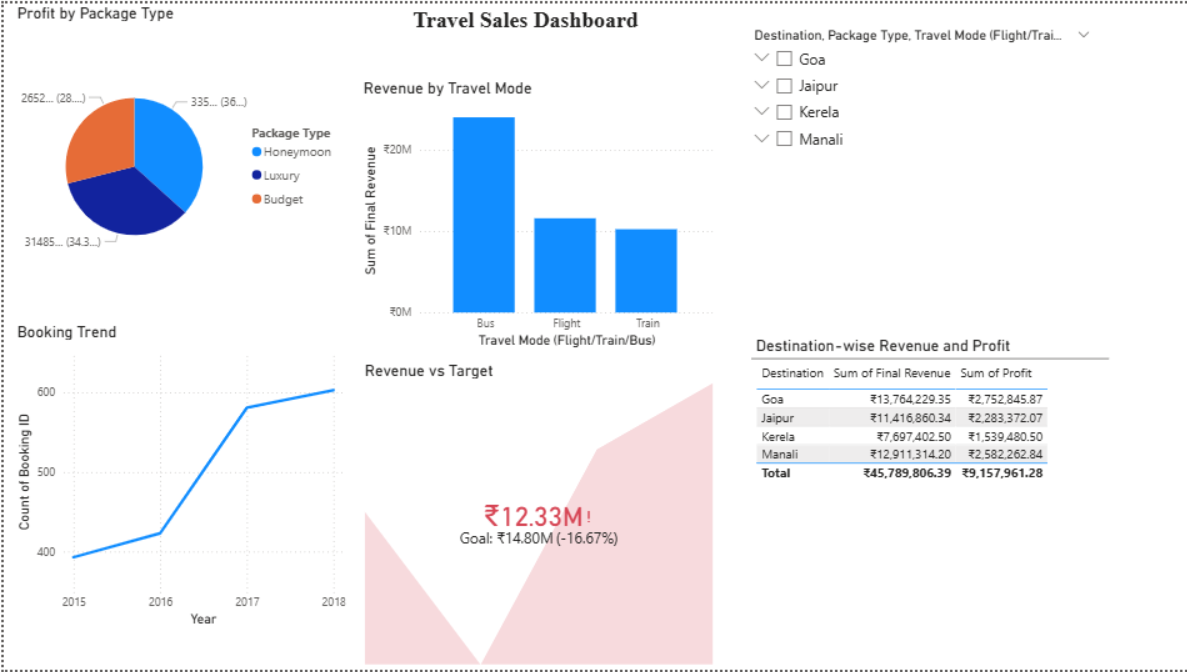

What the dashboard file says about the page in this screenshot:
{"tool":"powerbi","page":{"name":"Page 1","canvas":[1280,720],"ordinal":0},"visuals":[{"type":"pieChart","title":"Profit by Package Type","fields":{"Category":["Raw Data.Package Type"],"Y":["Sum(Raw Data.Profit)"]},"box":[9.6,0,365.3,333.7],"z":0},{"type":"lineChart","title":"Booking Trend","fields":{"Category":["Raw Data.Booking Date.Variation.Date Hierarchy.Year","Raw Data.Booking Date.Variation.Date Hierarchy.Quarter","Raw Data.Booking Date.Variation.Date Hierarchy.Month","Raw Data.Booking Date.Variation.Date Hierarchy.Day"],"Y":["CountNonNull(Raw Data.Booking ID)"]},"box":[10,344,365,334],"z":1000},{"type":"columnChart","title":"Revenue by Travel Mode","fields":{"Category":["Raw Data.Travel Mode (Flight/Train/Bus)"],"Y":["Sum(Raw Data.Final Revenue)"]},"box":[384.2,80.9,387.8,296],"z":2000},{"type":"slicer","fields":{"Values":["Raw Data.Destination","Raw Data.Package Type","Raw Data.Travel Mode (Flight/Train/Bus)"]},"box":[798.5,21.7,387.8,333.4],"z":3000},{"type":"tableEx","title":"Destination-wise Revenue and Profit","fields":{"Values":["Raw Data.Destination","Sum(Raw Data.Final Revenue)","Sum(Raw Data.Profit)"]},"box":[807.6,359.8,387.3,335.1],"z":4000},{"type":"kpi","title":"Revenue vs Target","fields":{"Indicator":["Sum(Raw Data.Final Revenue)"],"TrendLine":["Raw Data.Booking Date.Variation.Date Hierarchy.Year"],"Goal":["Raw Data.Target"]},"box":[385.4,386.6,386.6,333.4],"z":5000},{"type":"textbox","box":[329.8,0,468.7,43.5],"z":5001}]}

Visuals, with their boxes in screenshot pixels (x1, y1, x2, y2), scaled from the page's 1280x720 canvas onto the 1187x672 screenshot:
"Profit by Package Type" pieChart: <bbox>9, 0, 348, 311</bbox>
"Booking Trend" lineChart: <bbox>9, 321, 348, 633</bbox>
"Revenue by Travel Mode" columnChart: <bbox>356, 76, 716, 352</bbox>
slicer - Raw Data.Destination x Raw Data.Package Type: <bbox>740, 20, 1100, 331</bbox>
"Destination-wise Revenue and Profit" tableEx: <bbox>749, 336, 1108, 649</bbox>
"Revenue vs Target" kpi: <bbox>357, 361, 716, 671</bbox>
textbox: <bbox>306, 0, 740, 41</bbox>
